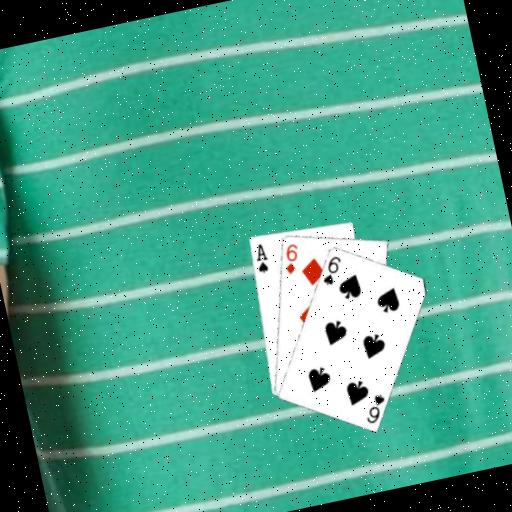6D: (277, 239, 304, 277)
6S: (358, 389, 391, 426), (316, 251, 347, 287)
AS: (249, 239, 272, 275)
